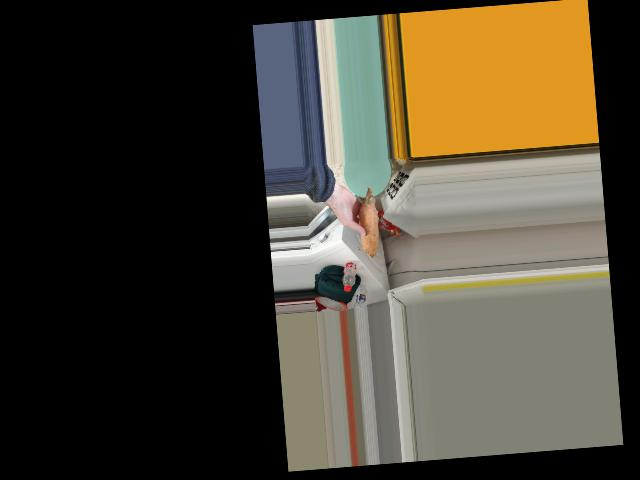sweet_potato: (354, 192, 380, 250)
